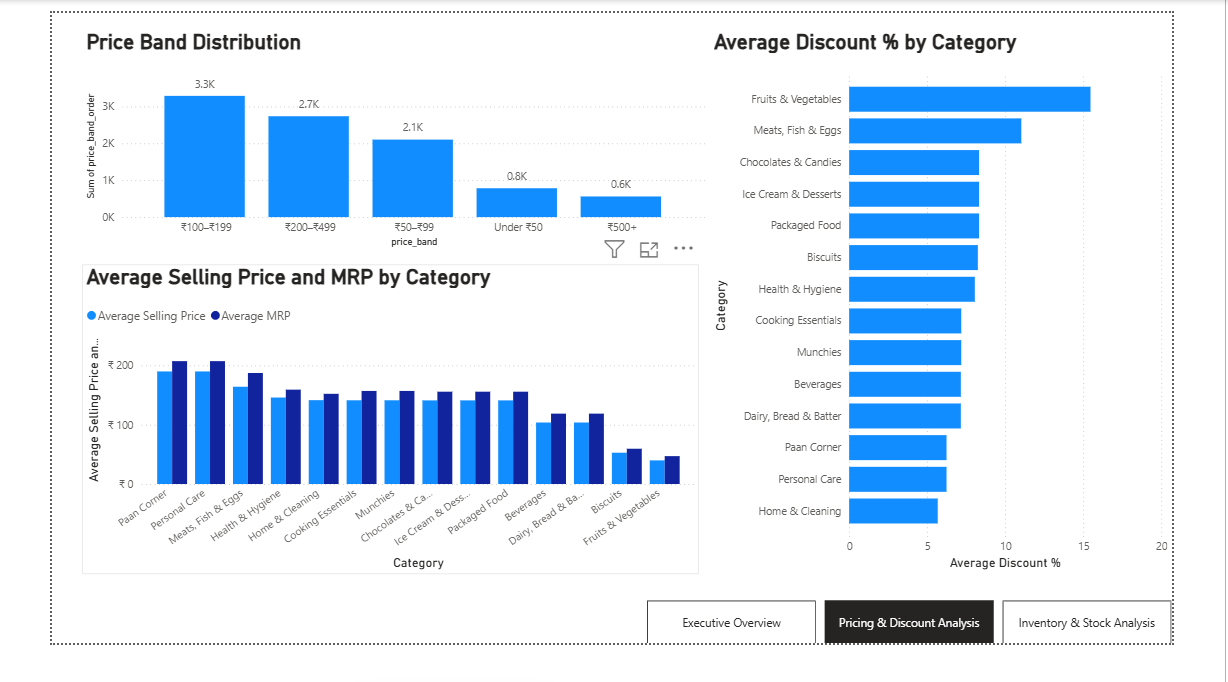

This screenshot's page, from the dashboard's own definition file:
{"tool":"powerbi","page":{"name":"Pricing & Discount Analysis","canvas":[1280,720],"ordinal":1},"visuals":[{"type":"clusteredColumnChart","title":"Price Band Distribution","fields":{"Category":["zepto_analysis zepto_analysis.price_band"],"Y":["Sum(zepto_analysis zepto_analysis.price_band_order)"]},"box":[33.9,18.3,717.8,254.5],"z":0},{"type":"clusteredColumnChart","title":"Average Selling Price and MRP by Category","fields":{"Category":["zepto_analysis zepto_analysis.Category"],"Y":["zepto_analysis zepto_analysis.Average Selling Price","zepto_analysis zepto_analysis.Average MRP"]},"box":[33.9,287.1,706,353.7],"z":1000},{"type":"clusteredBarChart","fields":{"Category":["zepto_analysis zepto_analysis.Category"],"Y":["zepto_analysis zepto_analysis.Average Discount %"]},"box":[751.7,18.3,528.5,622.5],"z":2000},{"type":"pageNavigator","box":[679.9,670.8,600,50],"z":2001}]}

Visuals, with their boxes in screenshot pixels (x1, y1, x2, y2), scaled from the page's 1280x720 canvas onto the 1228x682 screenshot:
"Price Band Distribution" clusteredColumnChart: left=33, top=17, right=721, bottom=258
"Average Selling Price and MRP by Category" clusteredColumnChart: left=33, top=272, right=710, bottom=607
clusteredBarChart - zepto_analysis zepto_analysis.Category x zepto_analysis zepto_analysis.Average Discount %: left=721, top=17, right=1227, bottom=607
pageNavigator: left=652, top=635, right=1227, bottom=681
